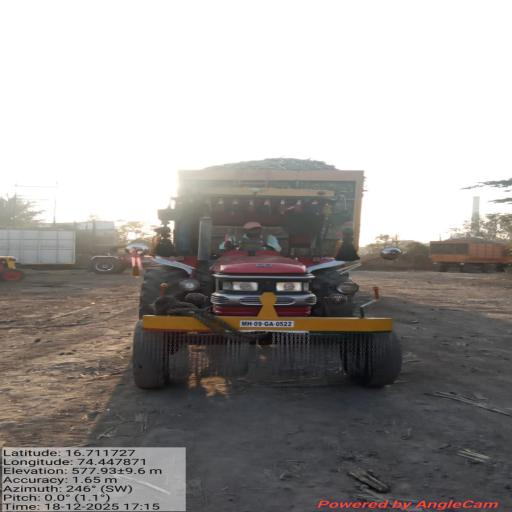number_plate: (240, 320, 294, 328)
